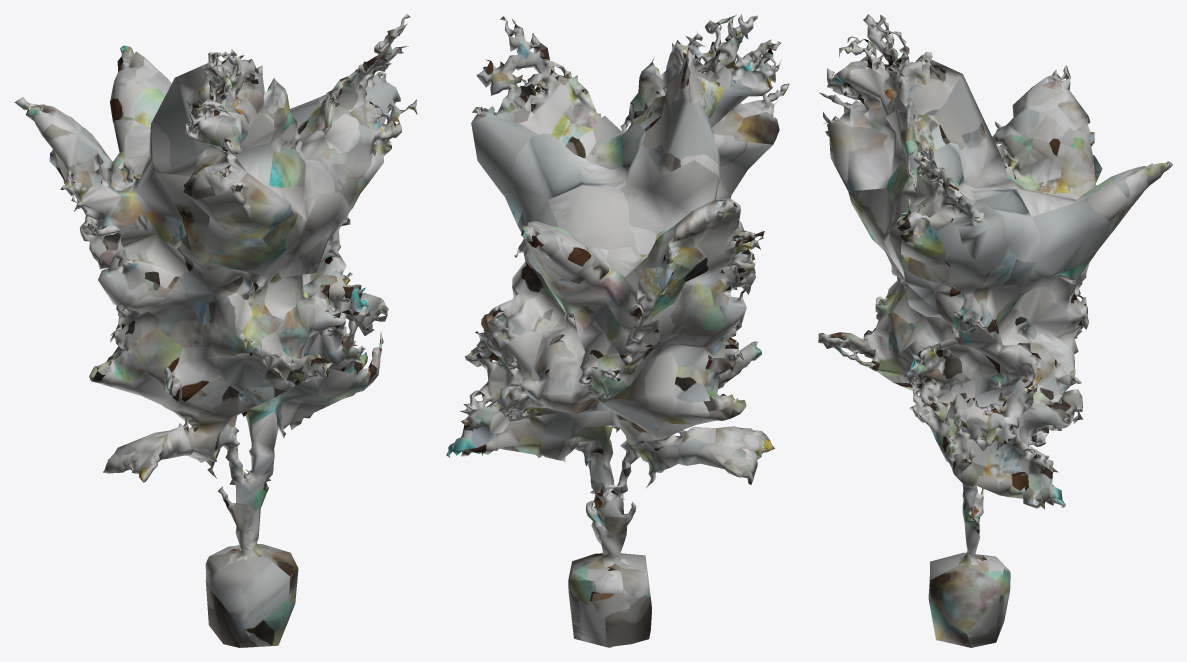
Rendered from plant.obj.
3 views of the same model, side by side, from view 1: azimuth 30°, elevation 25°; view 2: azimuth 150°, elevation 25°; view 3: azimuth 270°, elevation 25° (orthographic). The views are drawn at different scales.
Visible parts, largest first — view 1: Mesh_0; view 2: Mesh_0; view 3: Mesh_0.
Boxes of the visible parts, box(x1,y1,x2,y2) form: Mesh_0: box(14, 14, 417, 647); Mesh_0: box(446, 14, 789, 647); Mesh_0: box(818, 14, 1172, 647).
Size of the model in its own units: 0.6395 by 1.2 by 0.654.
